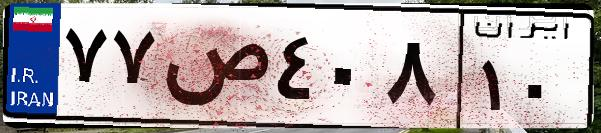0: (330, 28, 385, 110), (525, 38, 570, 115)
1: (475, 38, 525, 113)
4: (270, 28, 330, 110)
7: (57, 26, 110, 100), (110, 28, 158, 98)
8: (385, 28, 445, 110)
ص: (158, 20, 270, 120)
